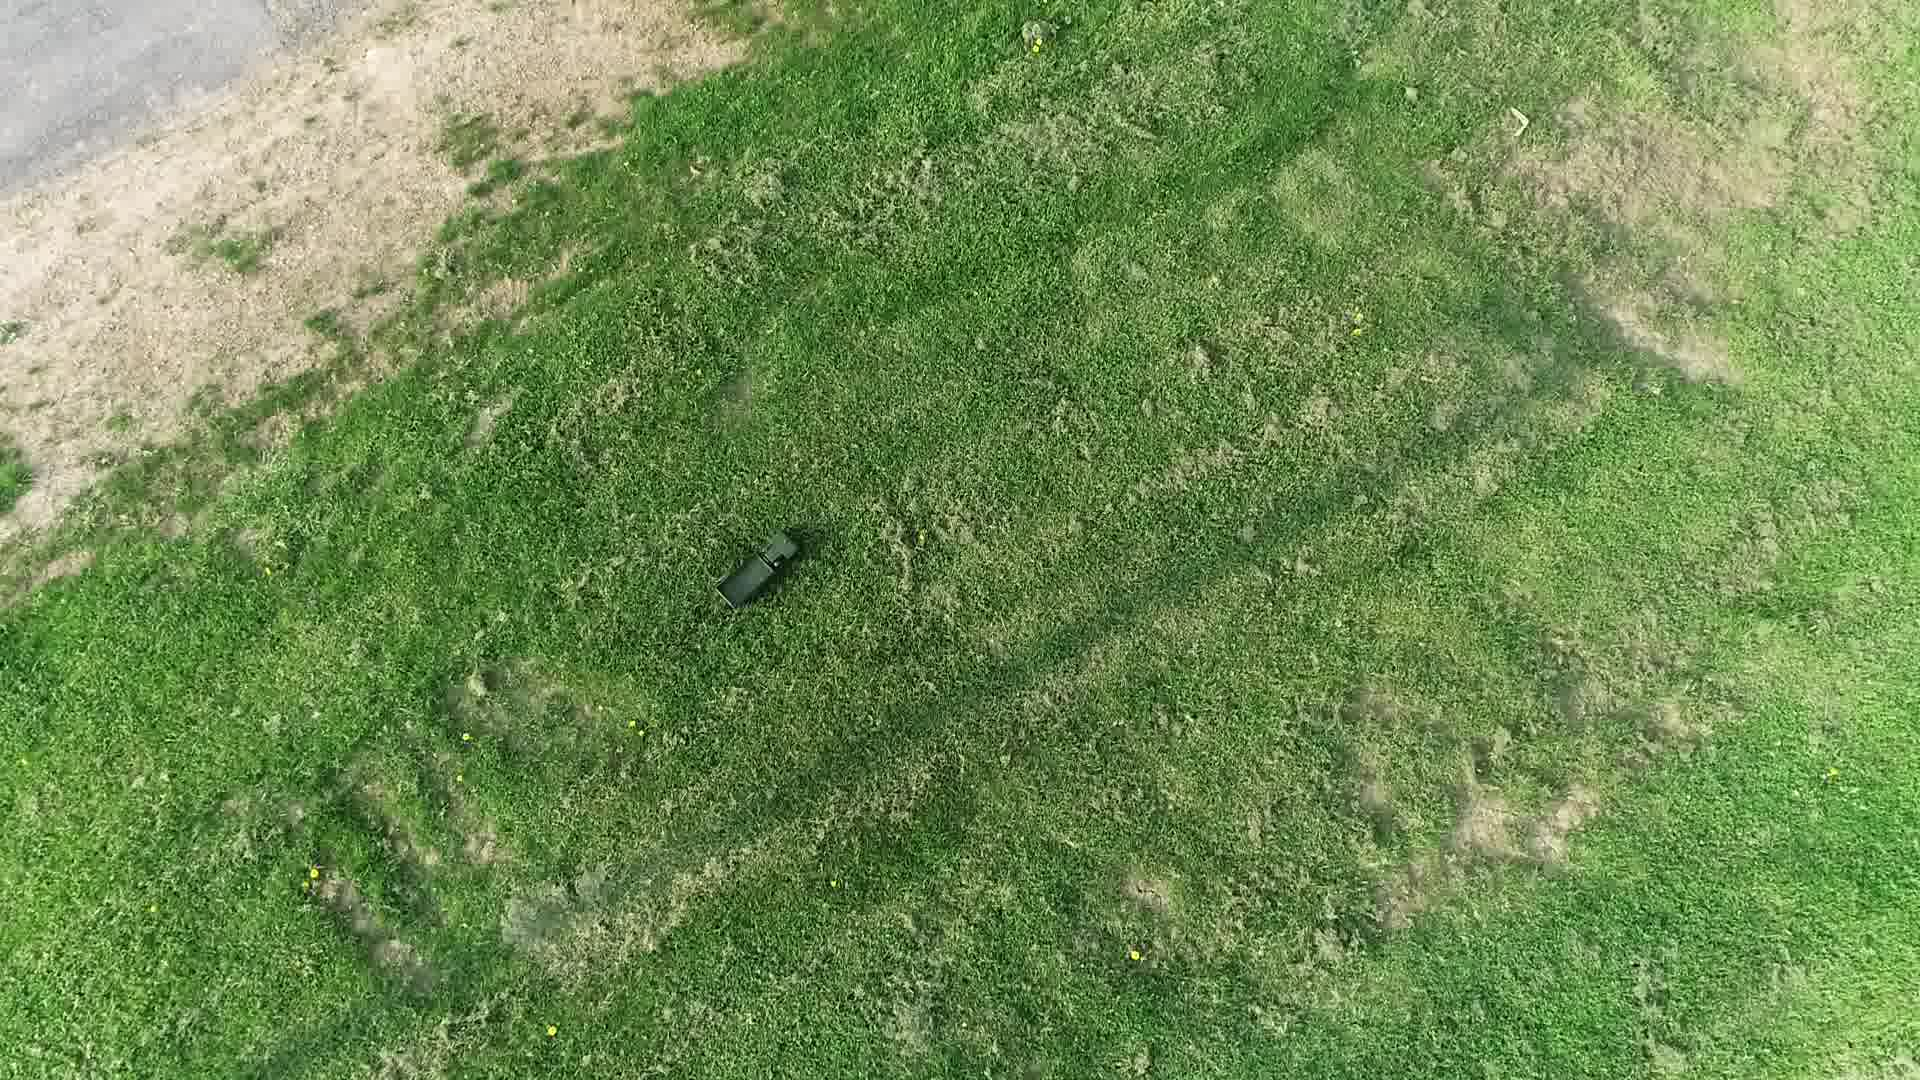transporter9: (708, 527, 804, 615)
